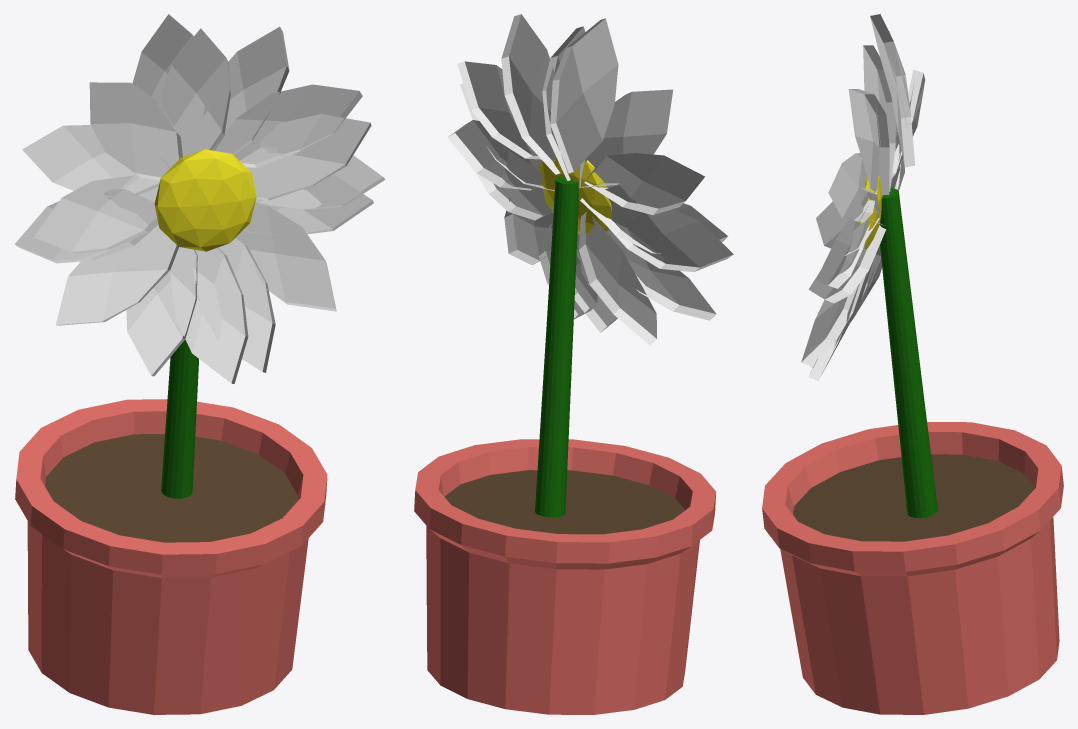
The model's file is model_flower.gltf.
The picture shows the model from 3 angles, left to right: view 1: azimuth 30°, elevation 25°; view 2: azimuth 150°, elevation 25°; view 3: azimuth 270°, elevation 25°; orthographic projection. The views are drawn at different scales.
Visible parts, largest first — view 1: model_flower; view 2: model_flower; view 3: model_flower.
Boxes of the visible parts, <box> form: model_flower: <box>14,14,385,714</box>; model_flower: <box>414,14,733,714</box>; model_flower: <box>762,14,1063,714</box>.
Bounding box in the file's own units: 0.3775 × 0.7326 × 0.3092.
